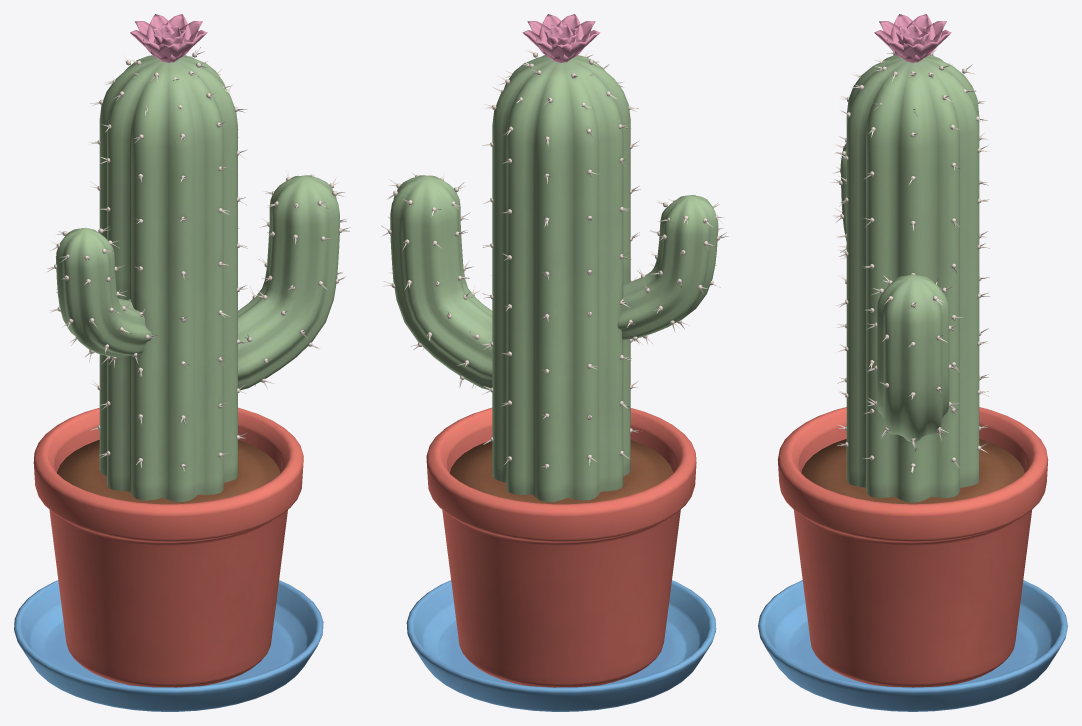
The model's file is potted_cactus.glb.
3 views of the same model, side by side, from view 1: azimuth 30°, elevation 25°; view 2: azimuth 150°, elevation 25°; view 3: azimuth 270°, elevation 25° (orthographic).
Visible parts, largest first — view 1: potted-cactus_body; view 2: potted-cactus_body; view 3: potted-cactus_body.
Boxes of the visible parts, x1=… form: potted-cactus_body: x1=14, y1=14, x2=349, y2=711; potted-cactus_body: x1=381, y1=14, x2=728, y2=711; potted-cactus_body: x1=758, y1=14, x2=1067, y2=711.
Bounding box in the file's own units: 0.2098 × 0.4005 × 0.1785.
Materials: 1 (1 with a texture image).
